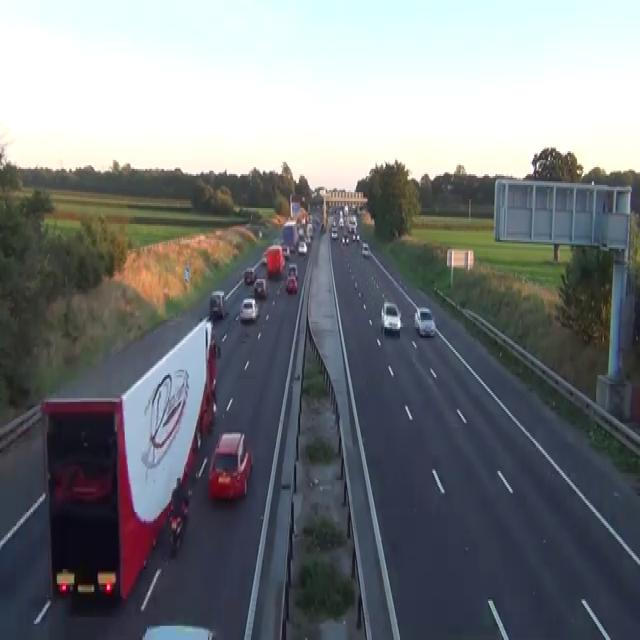Car: (208, 431, 252, 502), (52, 459, 114, 505), (168, 485, 190, 555), (192, 388, 216, 452), (330, 203, 359, 245), (141, 624, 214, 638), (380, 302, 401, 336), (413, 306, 435, 336), (239, 297, 259, 322), (209, 290, 225, 318), (169, 514, 182, 537), (253, 277, 267, 297), (285, 274, 297, 293), (244, 266, 255, 284), (288, 263, 298, 279), (261, 247, 269, 265), (297, 240, 307, 254), (361, 242, 369, 258), (281, 245, 290, 258), (331, 226, 338, 238), (297, 226, 304, 238), (261, 252, 267, 265), (446, 182, 454, 190), (340, 235, 346, 245), (344, 233, 349, 243), (338, 217, 343, 227), (289, 244, 295, 252), (352, 231, 356, 242), (320, 222, 324, 233), (356, 233, 360, 242), (259, 230, 262, 238)
Truck: (40, 314, 218, 602), (266, 244, 285, 278), (282, 220, 299, 250)
